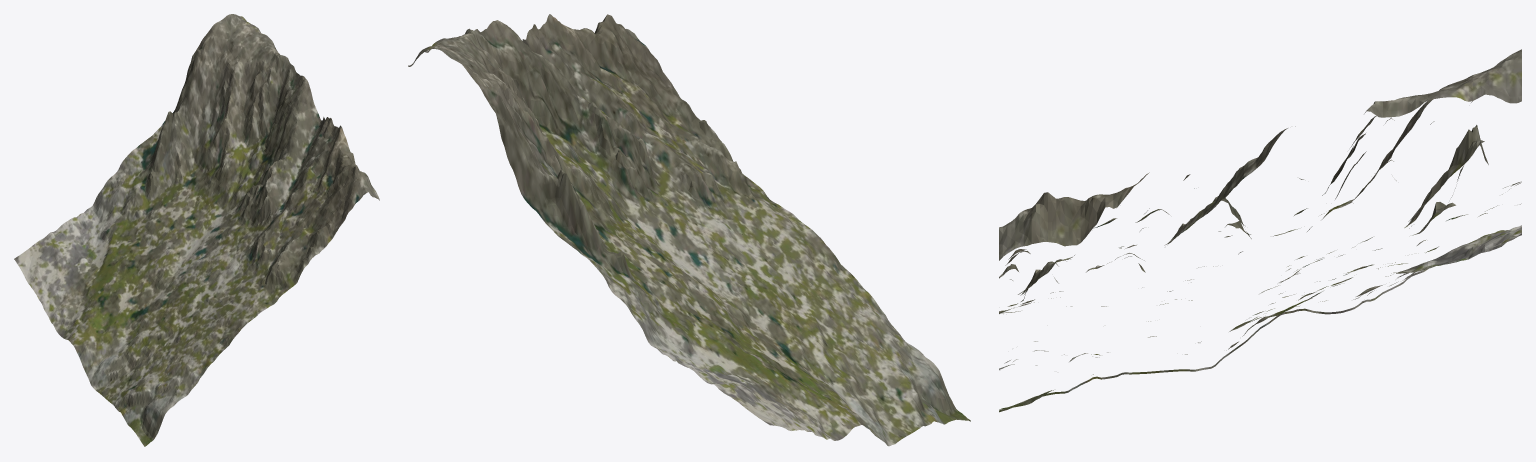
3 renders of one model, left to right at view 1: azimuth 30°, elevation 25°; view 2: azimuth 150°, elevation 25°; view 3: azimuth 270°, elevation 25°, orthographic. The views are drawn at different scales.
Size of the model in its own units: 250 by 290 by 241.
1 material, 1 textured.
